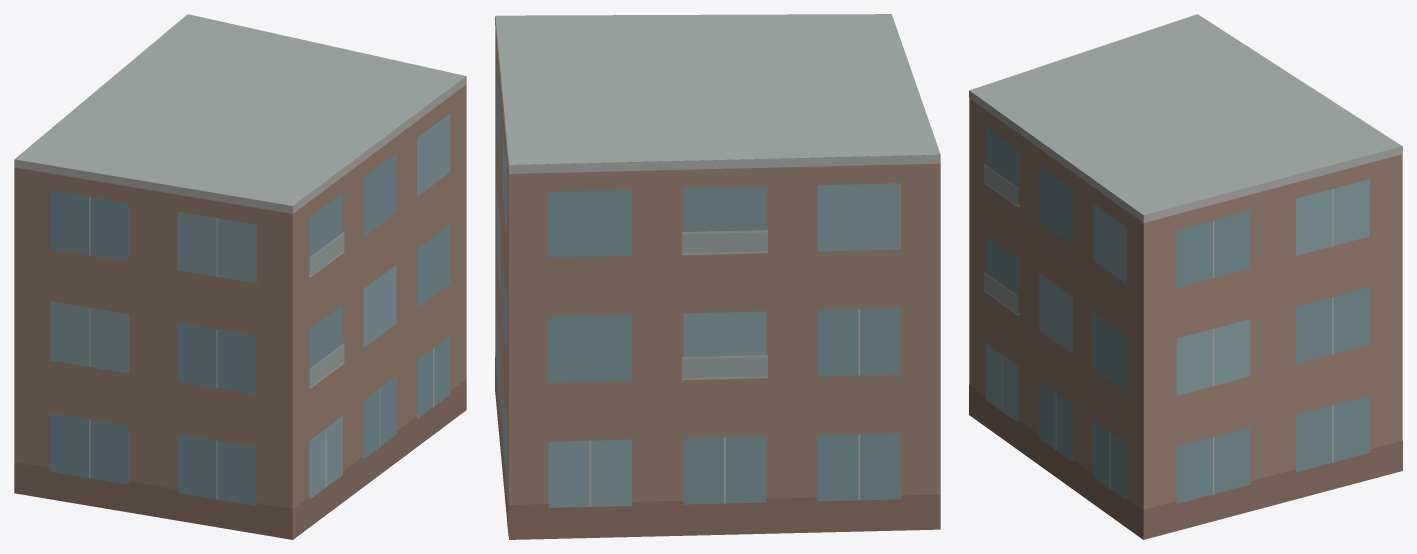
File: survey-upis-32972089.glb
3 renders of one model, left to right at view 1: azimuth 30°, elevation 25°; view 2: azimuth 150°, elevation 25°; view 3: azimuth 270°, elevation 25°, orthographic. The views are drawn at different scales.
Parts seen in each view (by area): view 1: survey-upis-32972089.tmp; view 2: survey-upis-32972089.tmp; view 3: survey-upis-32972089.tmp.
Boxes of the visible parts, bbox=[...] form: survey-upis-32972089.tmp: bbox=[14, 14, 466, 539]; survey-upis-32972089.tmp: bbox=[495, 14, 940, 539]; survey-upis-32972089.tmp: bbox=[969, 14, 1402, 539].
Size of the model in its own units: 13.58 by 10.2 by 12.36.
